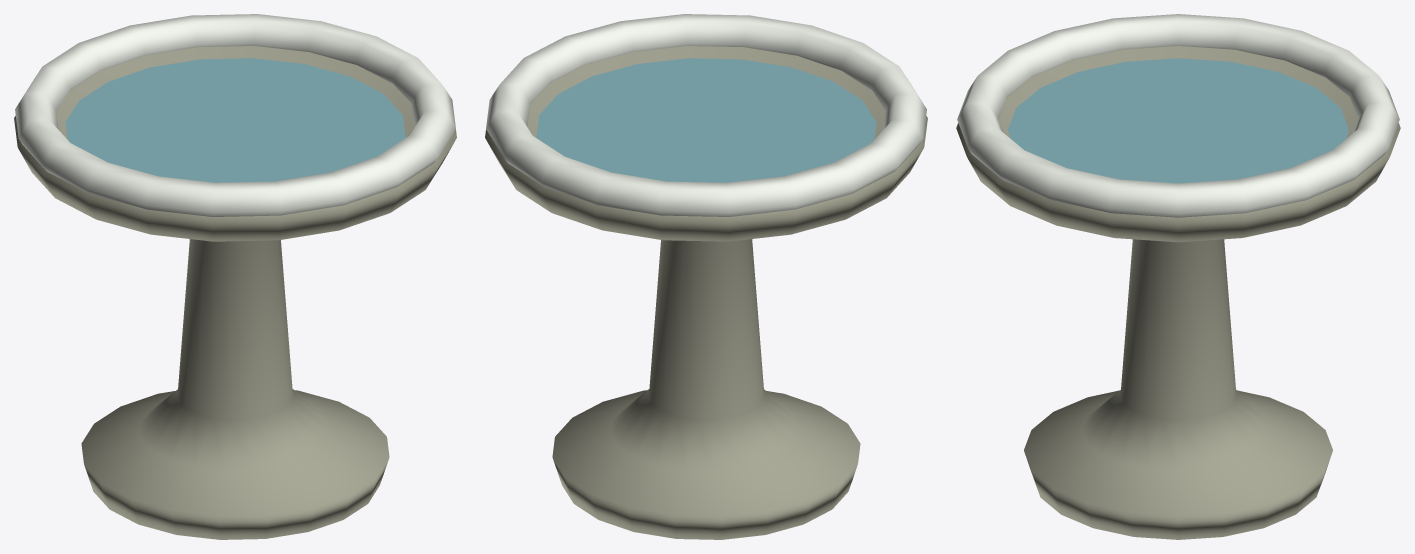
Rendered from almanac-gardens-frozen-birdbath-c68c45c1__22088.glb.
3 renders of one model, left to right at view 1: azimuth 30°, elevation 25°; view 2: azimuth 150°, elevation 25°; view 3: azimuth 270°, elevation 25°, orthographic.
Parts seen in each view (by area): view 1: frozen-birdbath-stone, frozen-birdbath-snow, frozen-birdbath-blue; view 2: frozen-birdbath-stone, frozen-birdbath-snow, frozen-birdbath-blue; view 3: frozen-birdbath-stone, frozen-birdbath-snow, frozen-birdbath-blue.
Part boxes in pixels (left/top/right/bottom): frozen-birdbath-stone: left=14, top=46, right=456, bottom=539; frozen-birdbath-snow: left=15, top=14, right=455, bottom=216; frozen-birdbath-blue: left=65, top=58, right=405, bottom=182; frozen-birdbath-stone: left=485, top=46, right=927, bottom=539; frozen-birdbath-snow: left=486, top=14, right=926, bottom=216; frozen-birdbath-blue: left=536, top=58, right=876, bottom=182; frozen-birdbath-stone: left=956, top=46, right=1400, bottom=539; frozen-birdbath-snow: left=957, top=14, right=1399, bottom=217; frozen-birdbath-blue: left=1007, top=58, right=1349, bottom=183.
Size of the model in its own units: 0.92 by 0.8573 by 0.92.
